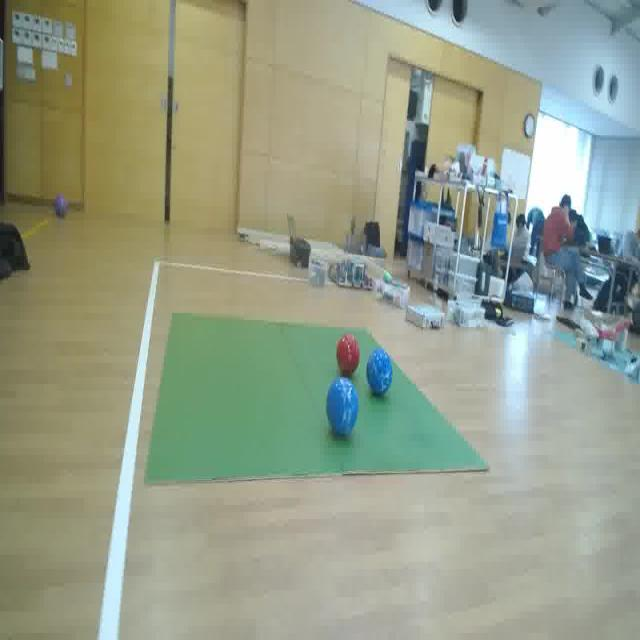blue_ball: (324, 372, 359, 438), (365, 347, 393, 399)
purple_ball: (53, 192, 71, 225)
red_ball: (335, 333, 361, 376)
